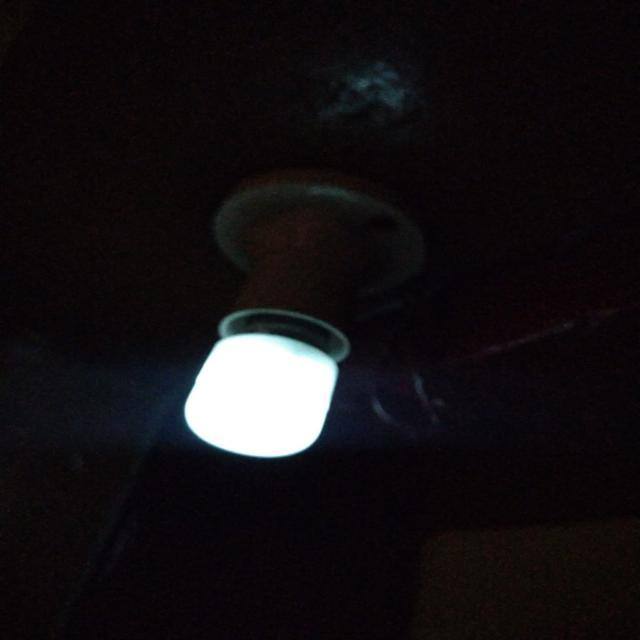bulb_on: (180, 183, 425, 468)
